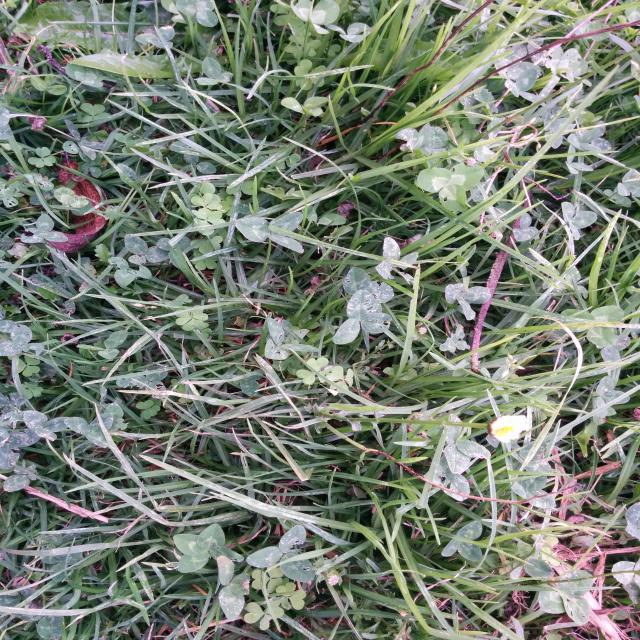Four Leaf Clover: (173, 523, 244, 573)
